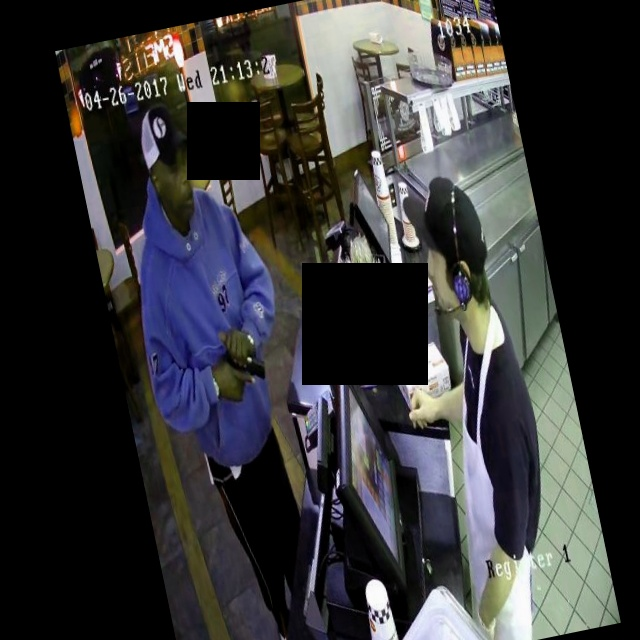gun: (211, 335, 274, 400)
